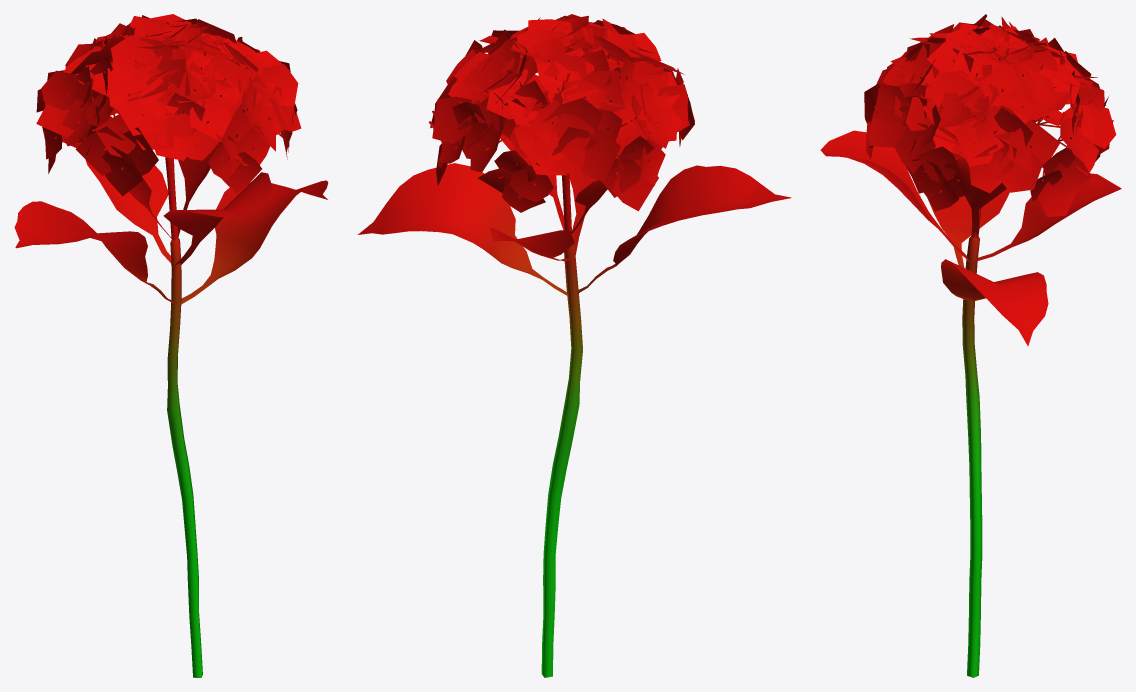
The model's file is Var10_LOD1.fbx.
The picture shows the model from 3 angles, left to right: view 1: azimuth 30°, elevation 25°; view 2: azimuth 150°, elevation 25°; view 3: azimuth 270°, elevation 25°; orthographic projection. The views are drawn at different scales.
Parts seen in each view (by area): view 1: _hgi9_Var10_LOD1; view 2: _hgi9_Var10_LOD1; view 3: _hgi9_Var10_LOD1.
Part boxes in pixels (x1,y1,x2,y2): _hgi9_Var10_LOD1: (14, 14, 328, 677); _hgi9_Var10_LOD1: (358, 14, 791, 677); _hgi9_Var10_LOD1: (820, 14, 1121, 677).
Bounding box in the file's own units: 30.61 × 51.32 × 22.21.
